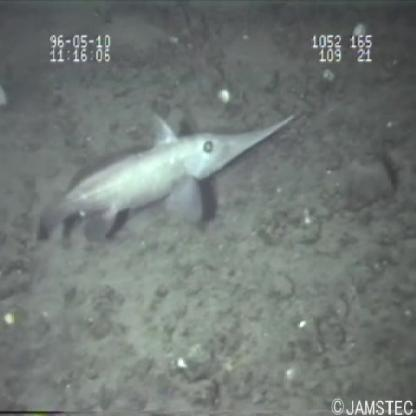Bio: (35, 108, 298, 256)
